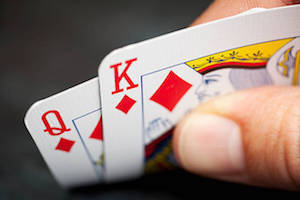KingOfDiamonds: (95, 6, 300, 180)
QueenOfDiamonds: (20, 77, 110, 199)
